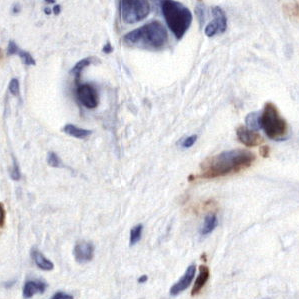Lymphocyte: (262, 101, 290, 139)
